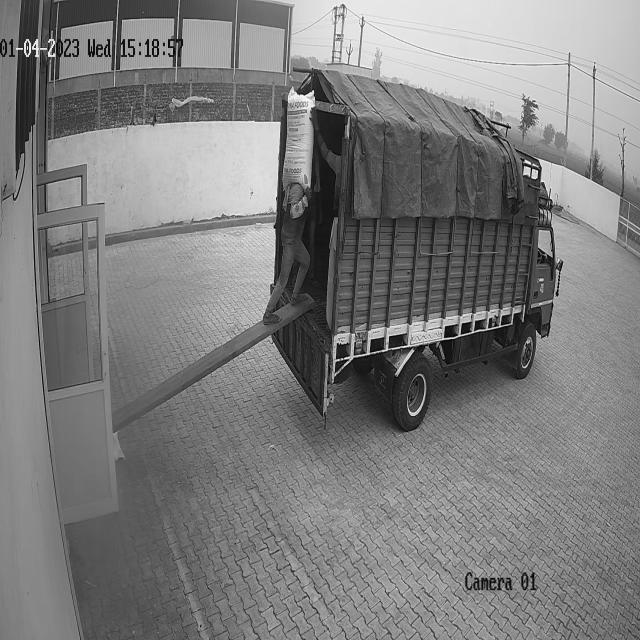sack: (282, 86, 315, 191)
